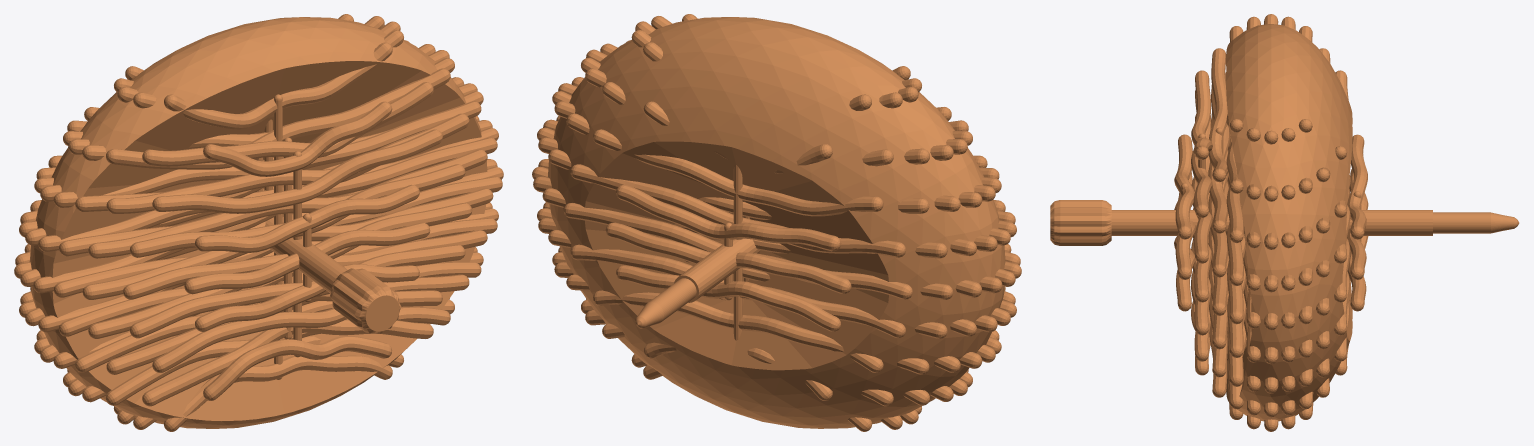
File: Noodles-v7-paper-guided-optimized-preview.glb
The picture shows the model from 3 angles, left to right: view 1: azimuth 30°, elevation 25°; view 2: azimuth 150°, elevation 25°; view 3: azimuth 270°, elevation 25°; orthographic projection. The views are drawn at different scales.
Parts seen in each view (by area): view 1: complete-mm-repaired.obj; view 2: complete-mm-repaired.obj; view 3: complete-mm-repaired.obj.
Boxes of the visible parts, left/top/right/bottom form: complete-mm-repaired.obj: left=14, top=14, right=503, bottom=431; complete-mm-repaired.obj: left=532, top=14, right=1021, bottom=431; complete-mm-repaired.obj: left=1050, top=14, right=1519, bottom=431.
Bounding box in the file's own units: 52.25 × 41 × 50.05.
